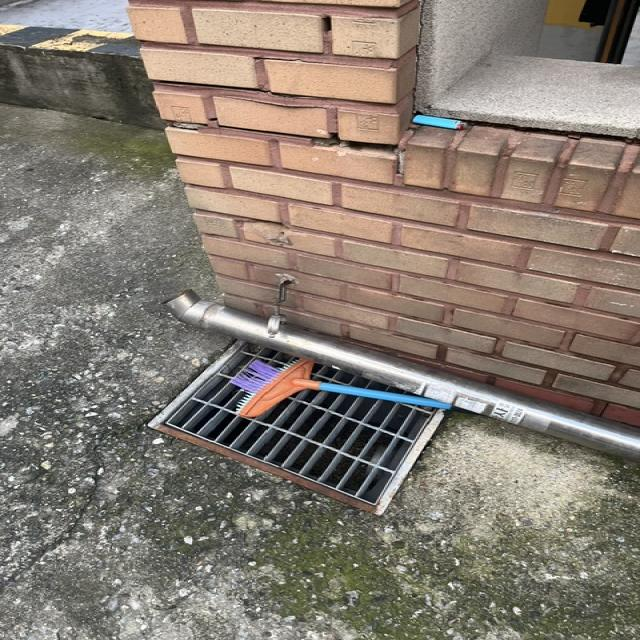drain_area: (167, 346, 434, 503), (309, 365, 421, 396)
drain_full: (161, 342, 440, 506)
